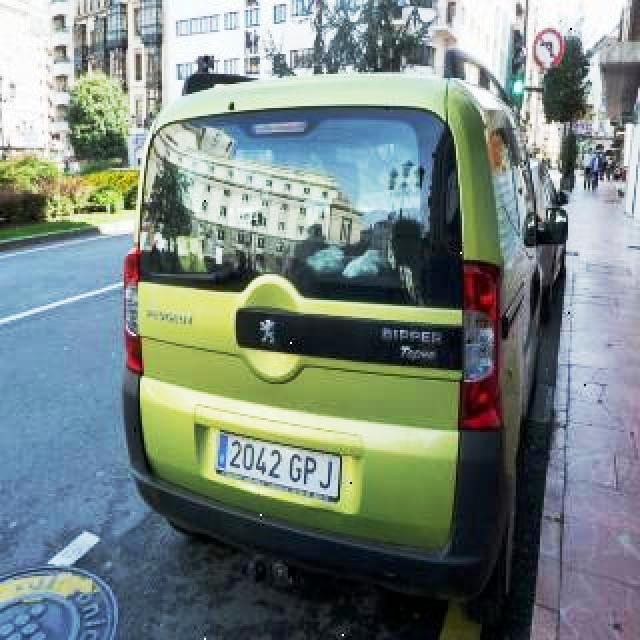license_plate: (215, 430, 344, 504)
